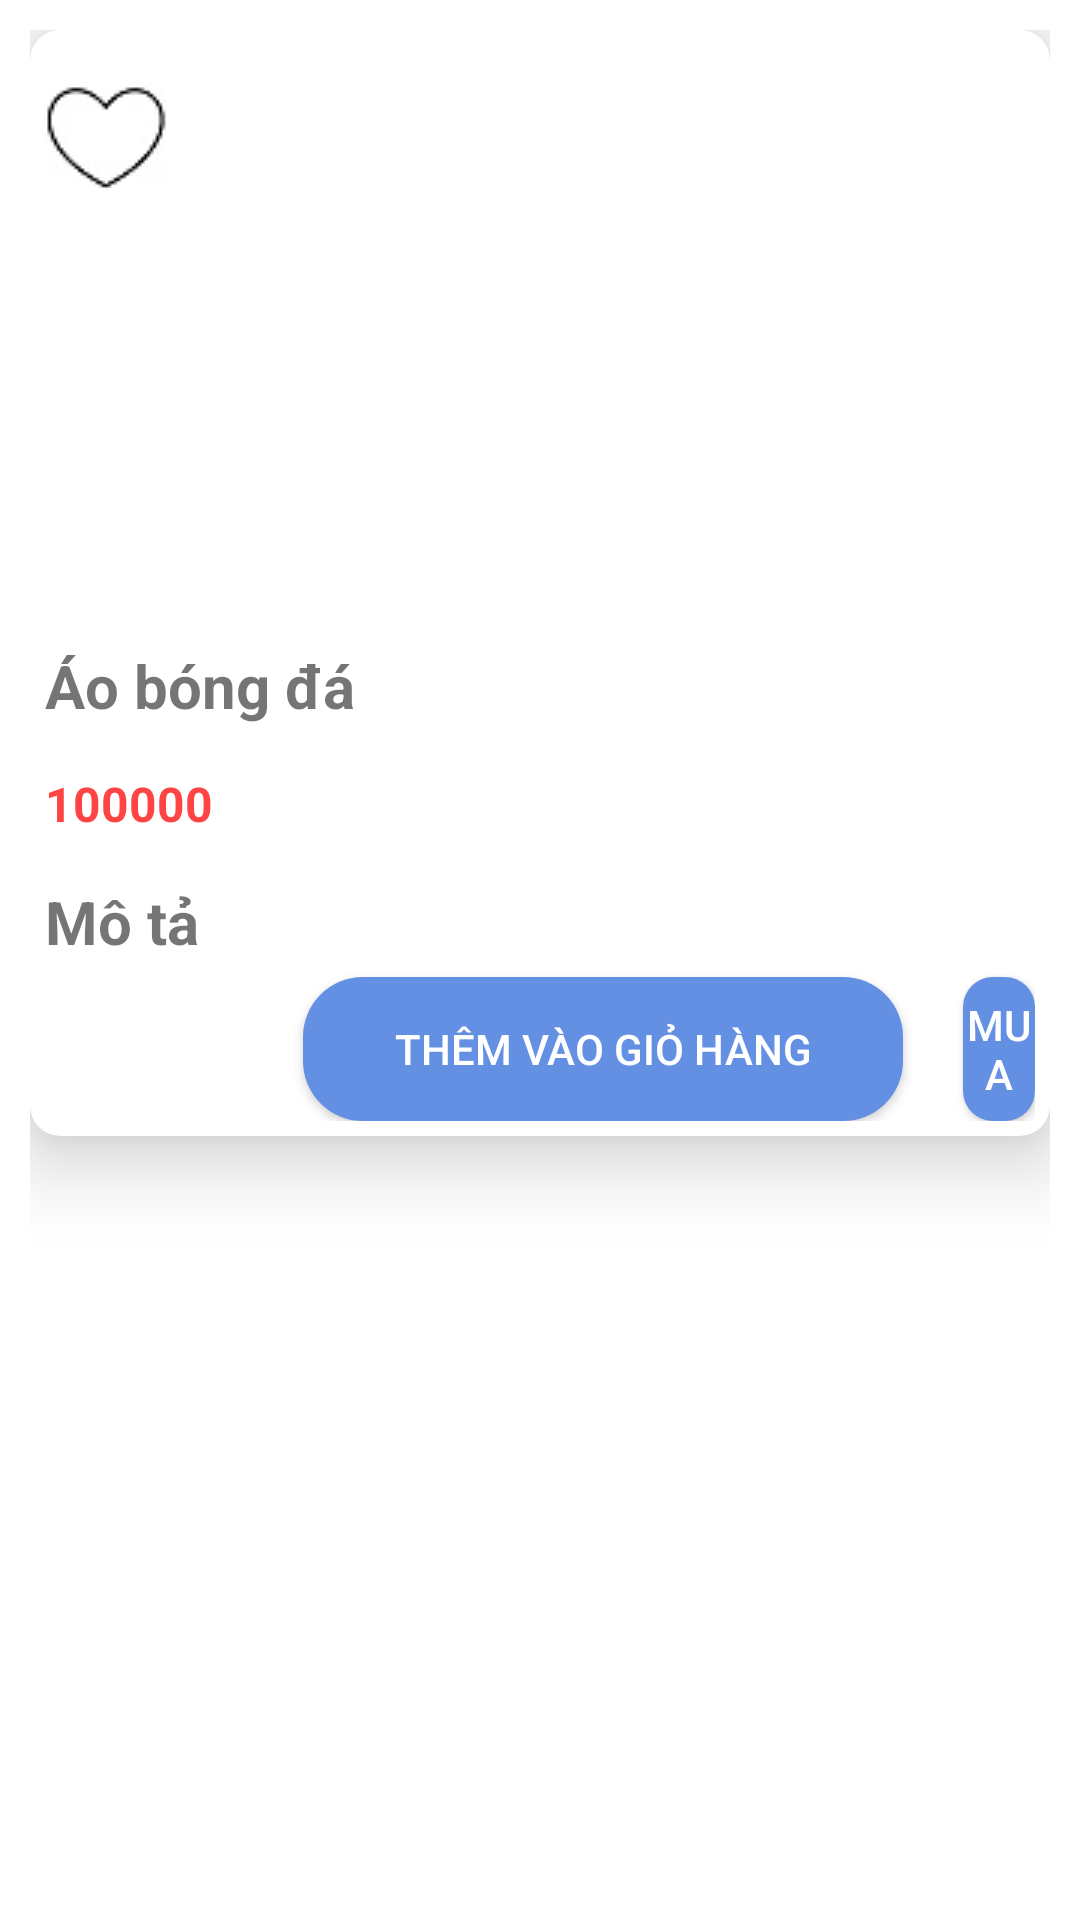

Where to tap for icons on this 1080×1920 app screen, as [x,y]:
custtom checkbox chitiet: [106,137]
